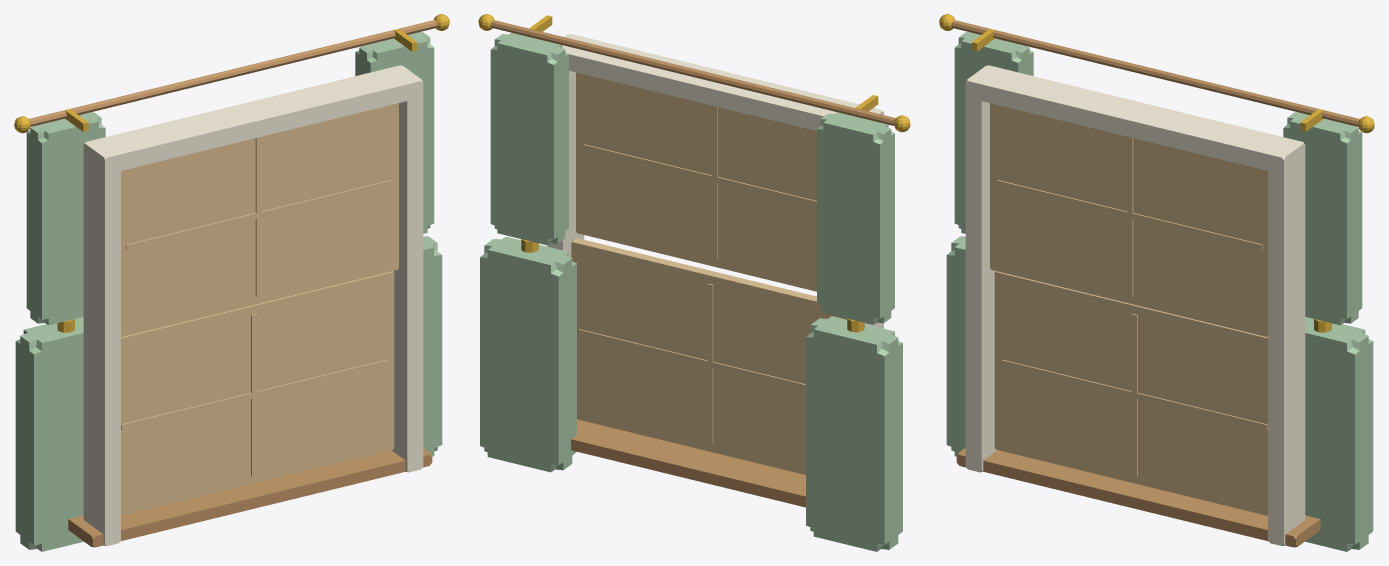
File: Furniture_Window_WithCurtains.glb
3 renders of one model, left to right at view 1: azimuth 30°, elevation 25°; view 2: azimuth 150°, elevation 25°; view 3: azimuth 330°, elevation 25°, orthographic.
Parts seen in each view (by area): view 1: Furniture_Window_WithCurtains; view 2: Furniture_Window_WithCurtains; view 3: Furniture_Window_WithCurtains.
Boxes of the visible parts, bbox=[...] form: Furniture_Window_WithCurtains: bbox=[14, 14, 449, 551]; Furniture_Window_WithCurtains: bbox=[478, 14, 910, 551]; Furniture_Window_WithCurtains: bbox=[939, 14, 1374, 551].
Bounding box in the file's own units: 1.63 × 1.56 × 0.29.
